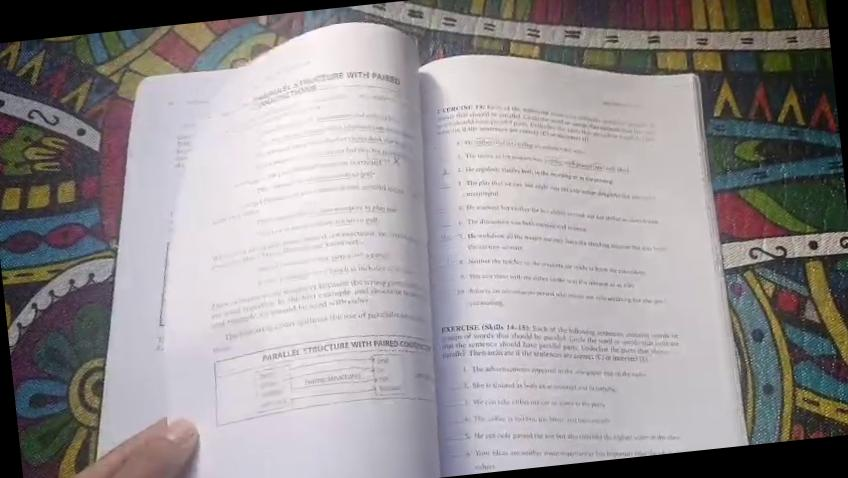Kertas: (402, 80, 732, 476), (164, 64, 435, 478)
